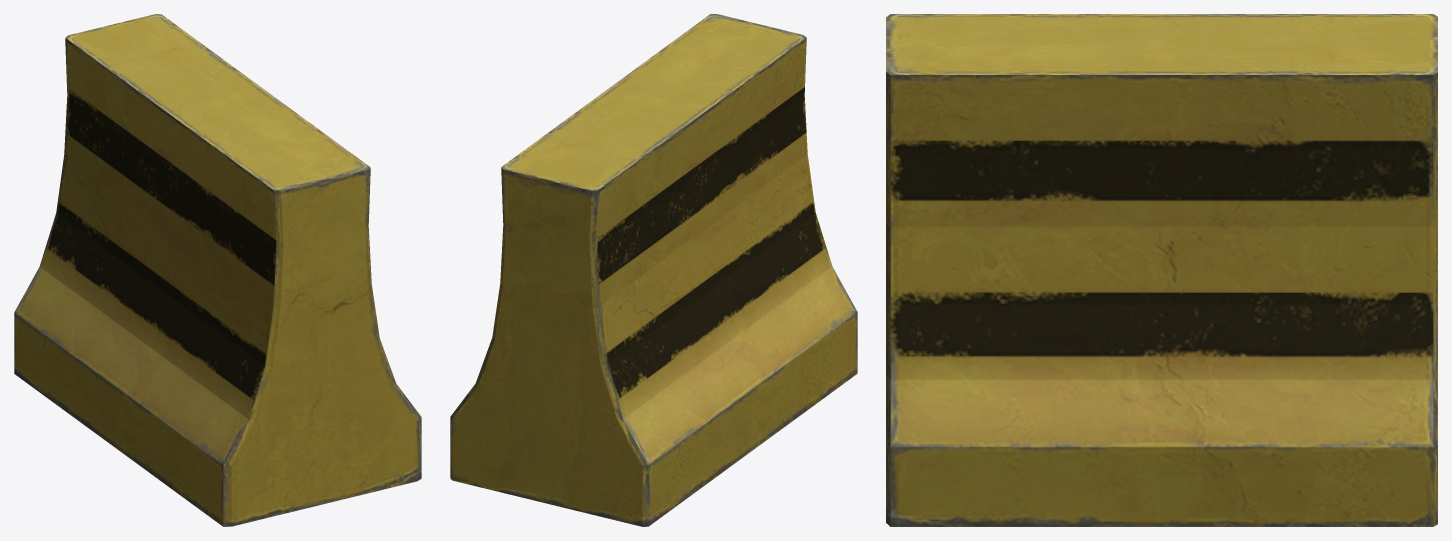
File: M_c3_bjq_shidunzi_01.fbx
3 renders of one model, left to right at view 1: azimuth 30°, elevation 25°; view 2: azimuth 150°, elevation 25°; view 3: azimuth 270°, elevation 25°, orthographic. The views are drawn at different scales.
Visible parts, largest first — view 1: M_c3_bjq_shidunzi_01.mo; view 2: M_c3_bjq_shidunzi_01.mo; view 3: M_c3_bjq_shidunzi_01.mo.
Boxes of the visible parts, x1=… form: M_c3_bjq_shidunzi_01.mo: x1=14, y1=14, x2=421, y2=526; M_c3_bjq_shidunzi_01.mo: x1=450, y1=14, x2=857, y2=526; M_c3_bjq_shidunzi_01.mo: x1=886, y1=14, x2=1437, y2=526.
Bounding box in the file's own units: 86.58 × 135 × 161.
